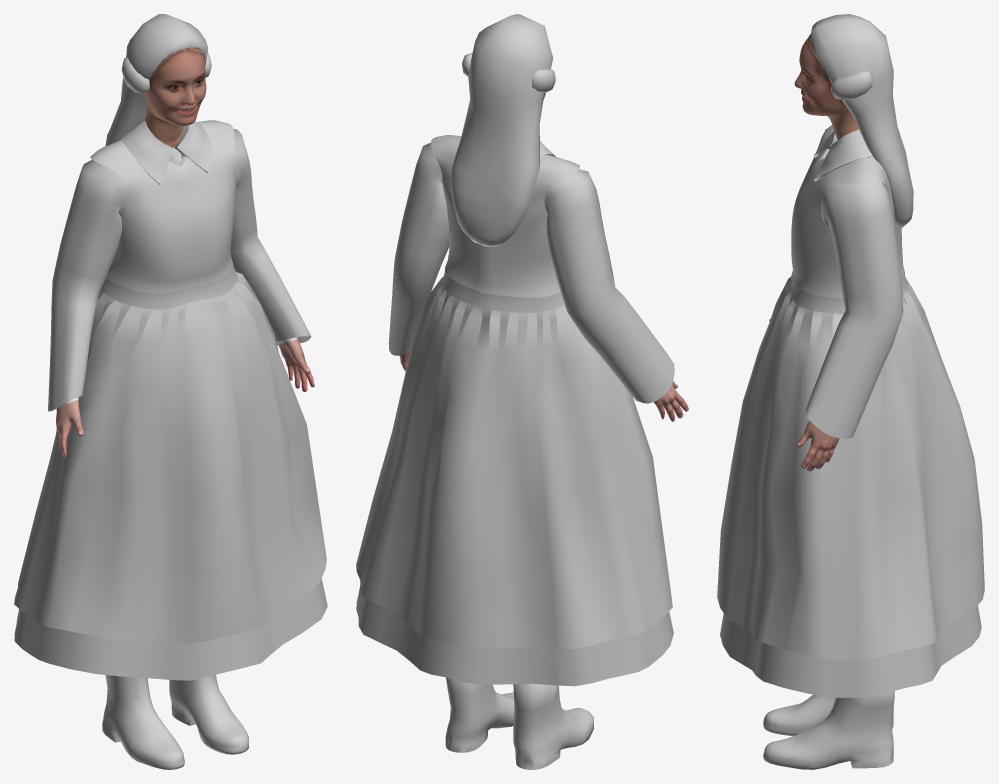
Rendered from Female Clothes(With Body).fbx.
3 views of the same model, side by side, from view 1: azimuth 30°, elevation 25°; view 2: azimuth 150°, elevation 25°; view 3: azimuth 270°, elevation 25° (orthographic).
Parts seen in each view (by area): view 1: Outfit, Body; view 2: Outfit, Body; view 3: Outfit, Body.
Boxes of the visible parts, left/top/right/bottom form: Outfit: left=14, top=14, right=327, bottom=769; Body: left=56, top=47, right=314, bottom=458; Outfit: left=356, top=14, right=674, bottom=769; Body: left=399, top=92, right=688, bottom=421; Outfit: left=717, top=14, right=984, bottom=769; Body: left=769, top=34, right=858, bottom=471.
Size of the model in its own units: 75.82 by 185 by 61.58.
